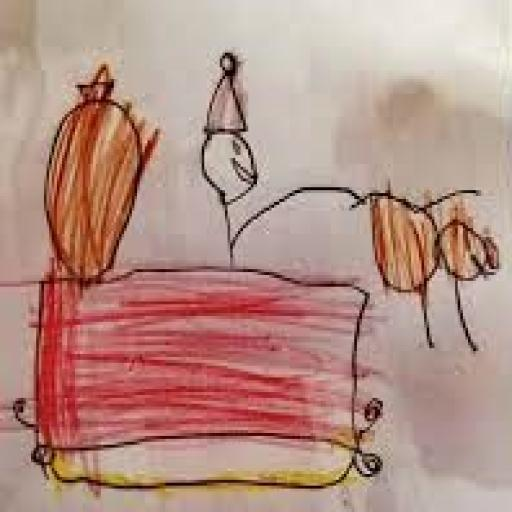person: (197, 26, 279, 275)
